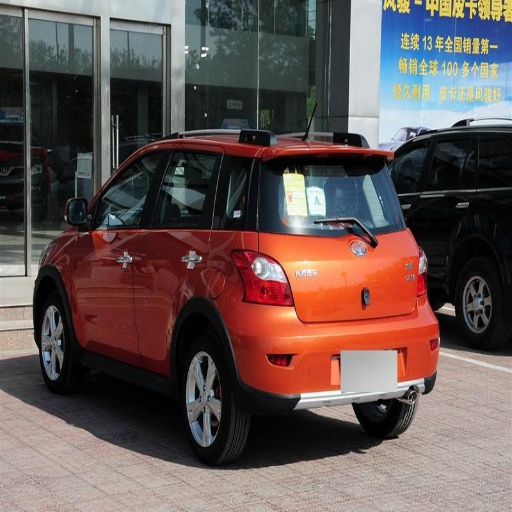back_bumper: (229, 303, 437, 411)
back_glass: (255, 156, 401, 234)
back_left_door: (134, 145, 222, 364)
trunk: (263, 235, 418, 324)
